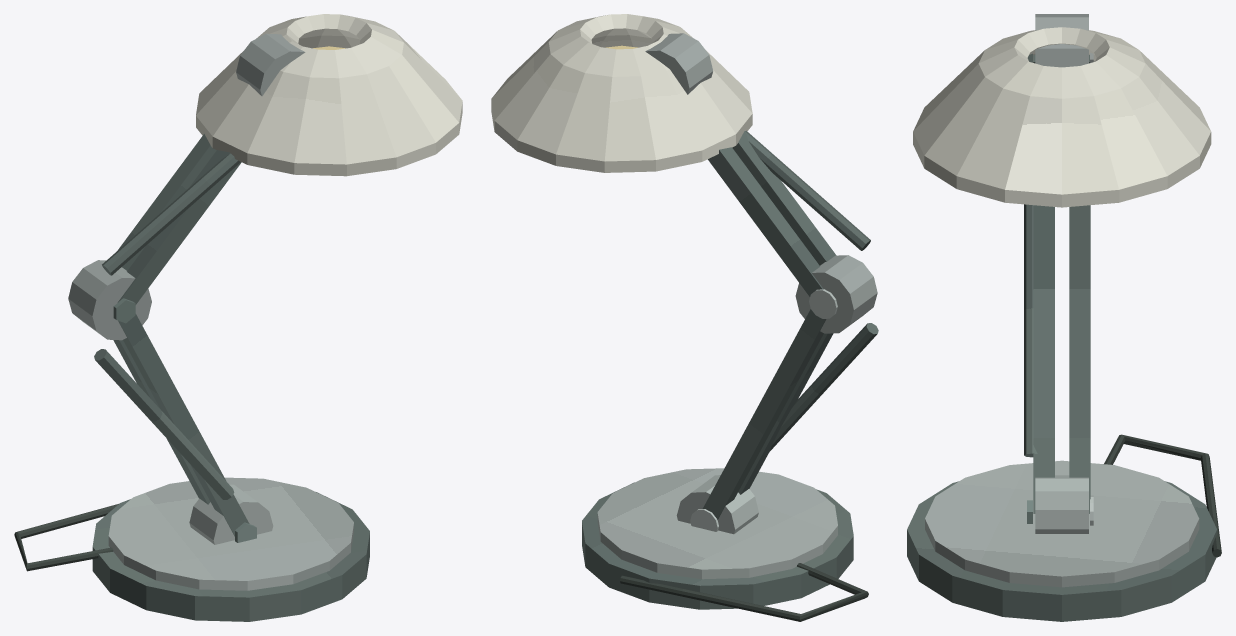
Rendered from tasklamp.glb.
The picture shows the model from 3 angles, left to right: view 1: azimuth 30°, elevation 25°; view 2: azimuth 150°, elevation 25°; view 3: azimuth 270°, elevation 25°; orthographic projection. The views are drawn at different scales.
Visible parts, largest first — view 1: tasklamp/shade, tasklamp/base-top, tasklamp/weighted-base, tasklamp/arm-0--0.015, tasklamp/joint-1, tasklamp/arm-1--0.015, tasklamp/spring-0, tasklamp/spring-1, tasklamp/joint-2, tasklamp/joint-0, tasklamp/arm-1-0.015, tasklamp/power-lead (+1 smaller); view 2: tasklamp/shade, tasklamp/base-top, tasklamp/weighted-base, tasklamp/arm-0-0.015, tasklamp/arm-1-0.015, tasklamp/joint-1, tasklamp/arm-1--0.015, tasklamp/power-lead, tasklamp/spring-1, tasklamp/joint-2, tasklamp/spring-0, tasklamp/joint-0 (+2 smaller); view 3: tasklamp/shade, tasklamp/base-top, tasklamp/weighted-base, tasklamp/arm-0--0.015, tasklamp/arm-0-0.015, tasklamp/joint-0, tasklamp/spring-0, tasklamp/joint-2, tasklamp/power-lead.
Part boxes in pixels (x1,y1,x2,y2): tasklamp/shade: [196, 14, 462, 176]; tasklamp/base-top: [108, 477, 353, 590]; tasklamp/weighted-base: [92, 492, 369, 621]; tasklamp/arm-0--0.015: [118, 314, 249, 536]; tasklamp/joint-1: [68, 260, 151, 340]; tasklamp/arm-1--0.015: [117, 150, 241, 304]; tasklamp/spring-0: [94, 349, 234, 499]; tasklamp/spring-1: [102, 153, 240, 275]; tasklamp/joint-2: [236, 33, 305, 96]; tasklamp/joint-0: [189, 484, 273, 544]; tasklamp/arm-1-0.015: [117, 134, 216, 270]; tasklamp/power-lead: [14, 504, 118, 571]; tasklamp/shade: [491, 14, 752, 172]; tasklamp/base-top: [597, 468, 837, 579]; tasklamp/weighted-base: [582, 482, 853, 609]; tasklamp/arm-0-0.015: [702, 309, 826, 519]; tasklamp/arm-1-0.015: [708, 147, 823, 296]; tasklamp/joint-1: [795, 255, 877, 333]; tasklamp/arm-1--0.015: [732, 131, 836, 265]; tasklamp/power-lead: [620, 563, 868, 621]; tasklamp/spring-1: [744, 130, 870, 250]; tasklamp/joint-2: [645, 33, 712, 94]; tasklamp/spring-0: [770, 323, 878, 450]; tasklamp/joint-0: [676, 475, 758, 534]; tasklamp/shade: [913, 27, 1211, 207]; tasklamp/base-top: [925, 460, 1199, 587]; tasklamp/weighted-base: [907, 481, 1216, 621]; tasklamp/arm-0--0.015: [1033, 205, 1054, 513]; tasklamp/arm-0-0.015: [1069, 205, 1090, 513]; tasklamp/joint-0: [1035, 475, 1088, 533]; tasklamp/spring-0: [1024, 204, 1037, 457]; tasklamp/joint-2: [1035, 14, 1088, 67]; tasklamp/power-lead: [1104, 434, 1221, 557].
Size of the model in its own units: 0.4226 by 0.522 by 0.264.
5 materials, 5 textured.
